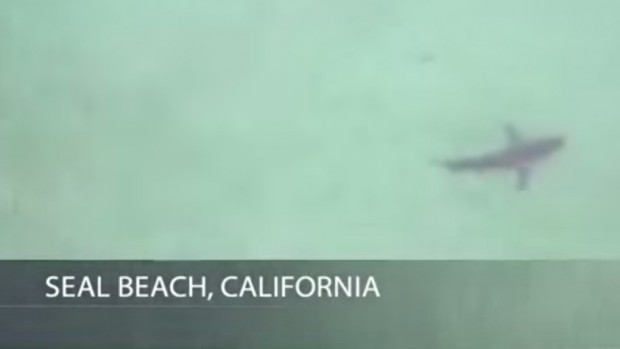shark: (426, 115, 569, 204)
